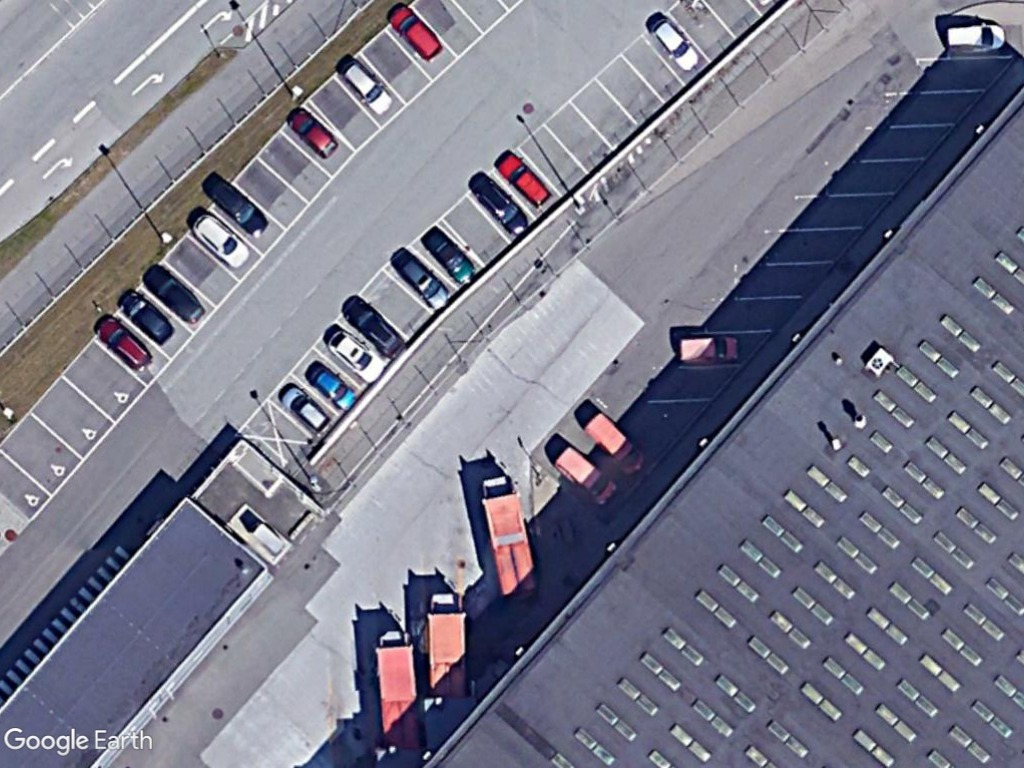car: (88, 310, 159, 376), (468, 174, 534, 242), (140, 263, 209, 328), (391, 246, 457, 313), (321, 322, 387, 388), (186, 210, 253, 275), (384, 0, 448, 68), (341, 296, 407, 359), (491, 149, 555, 212), (337, 53, 397, 120), (114, 288, 179, 348), (209, 183, 273, 240), (421, 226, 480, 286), (646, 14, 704, 75), (276, 381, 337, 439), (282, 104, 344, 161), (304, 358, 361, 416), (936, 18, 1009, 58)
truck: (477, 469, 549, 608), (364, 624, 428, 762), (418, 588, 476, 706)
van: (573, 409, 651, 481), (547, 439, 622, 511), (671, 330, 747, 369)
